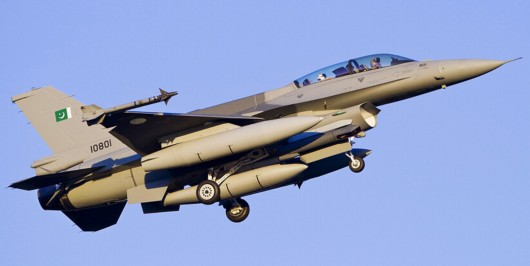airplane: (3, 49, 525, 232)
